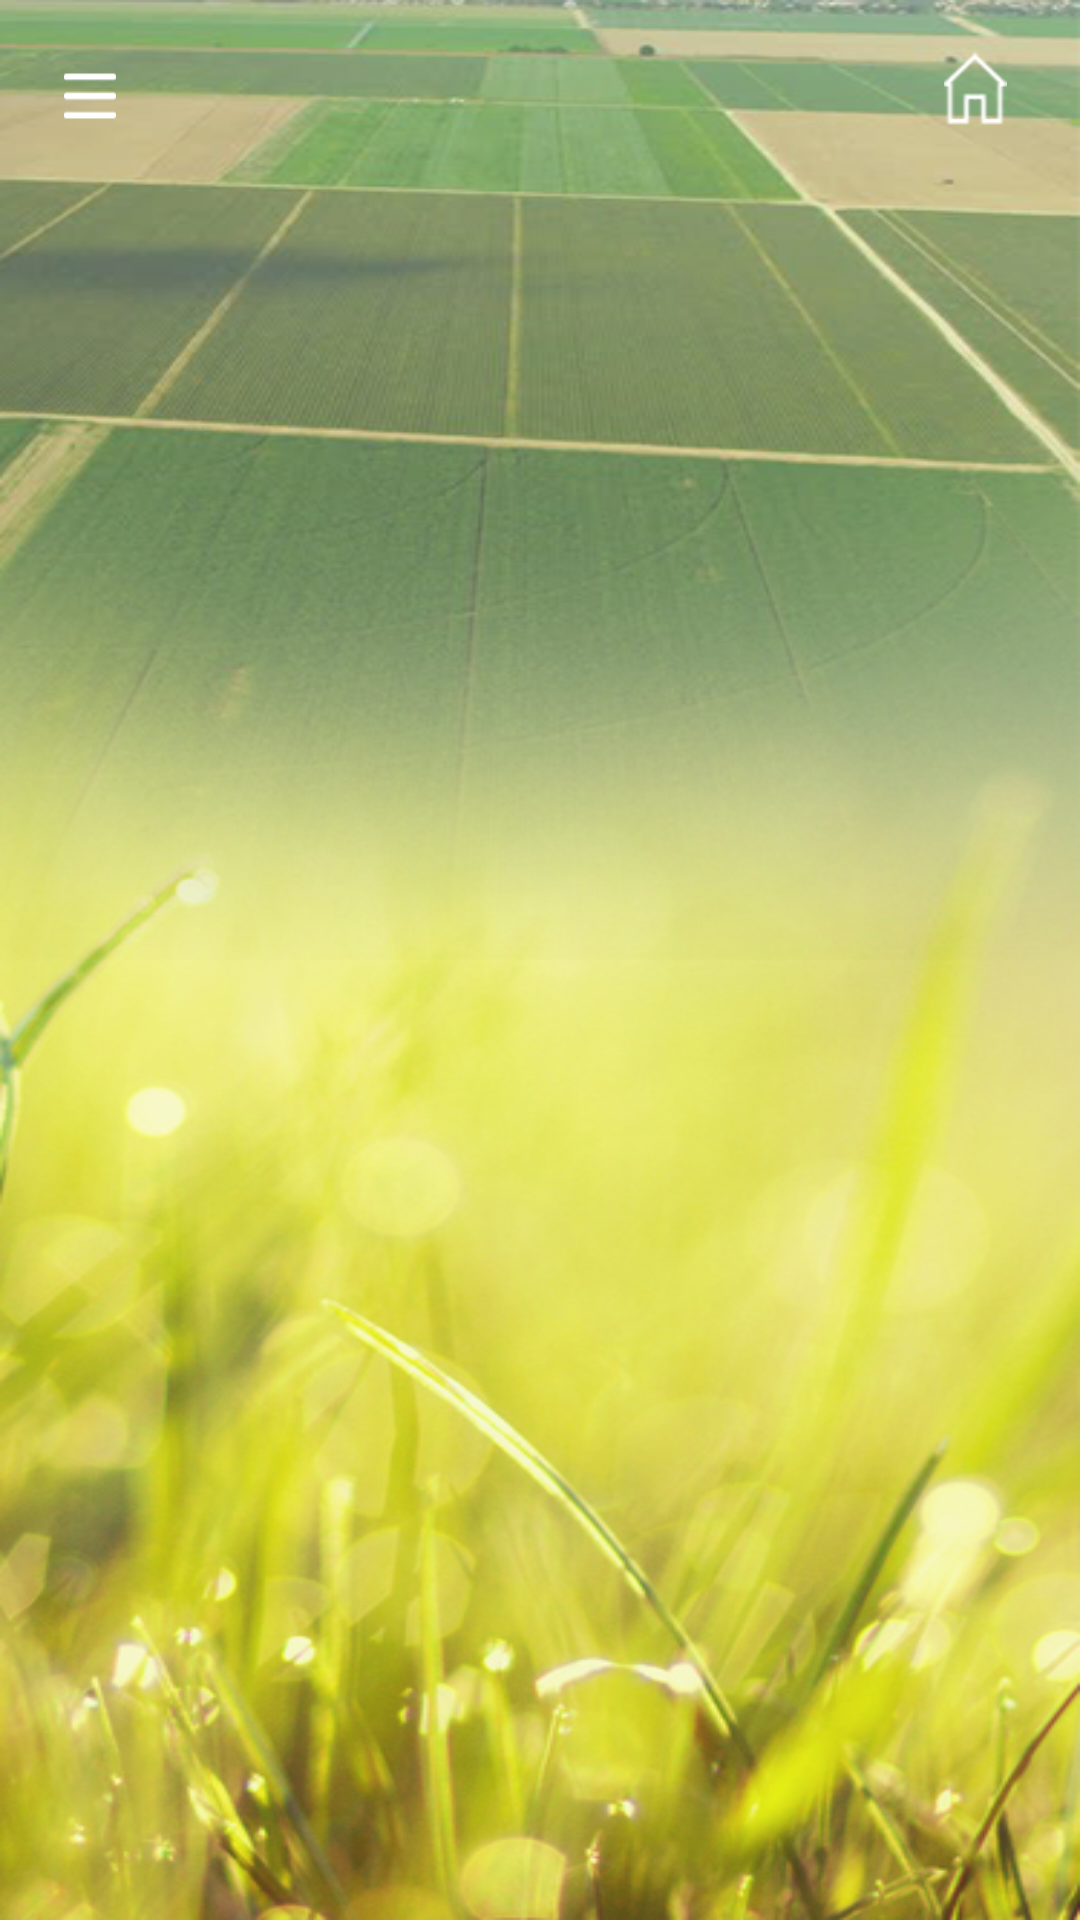

Icons on this 1080w x 1920h Android screen, each with the point to tap as (x,y):
home: (975,91)
menu: (90,96)
